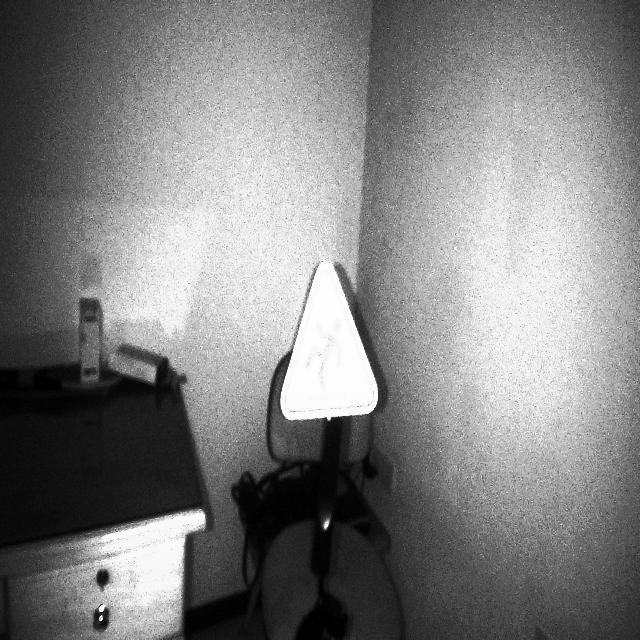Sign: (279, 259, 380, 423)
